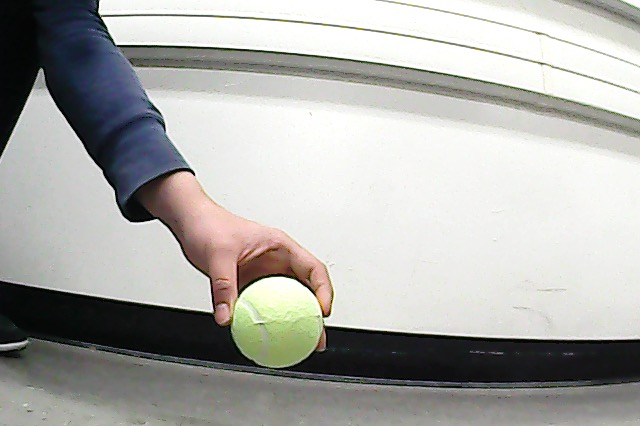ball: (226, 272, 326, 371)
